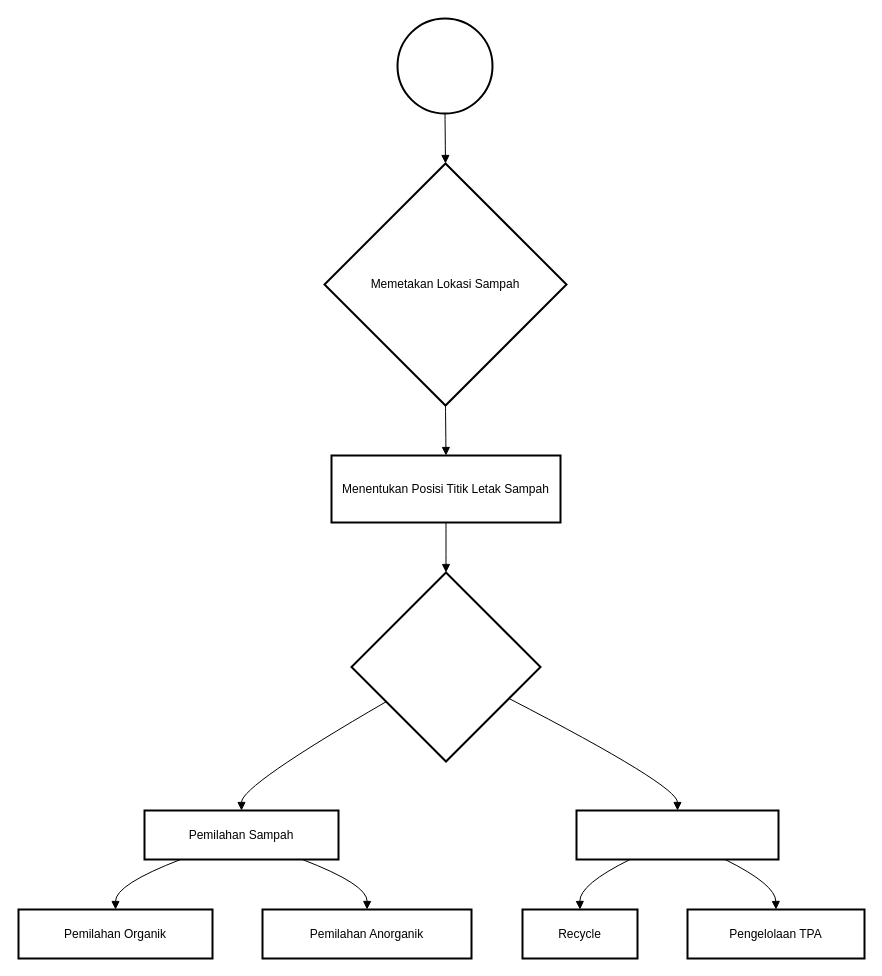
The diagram is 882 pixels wide and 976 high, and some of its shapes have lost their labels. Here are the shapes that lost their labels. From the top down, the centre of each, then its label:
(x=444, y=65): Lingkungan
(x=445, y=666): Analisis Lingkungan
(x=677, y=834): Pengolahan Sampah
